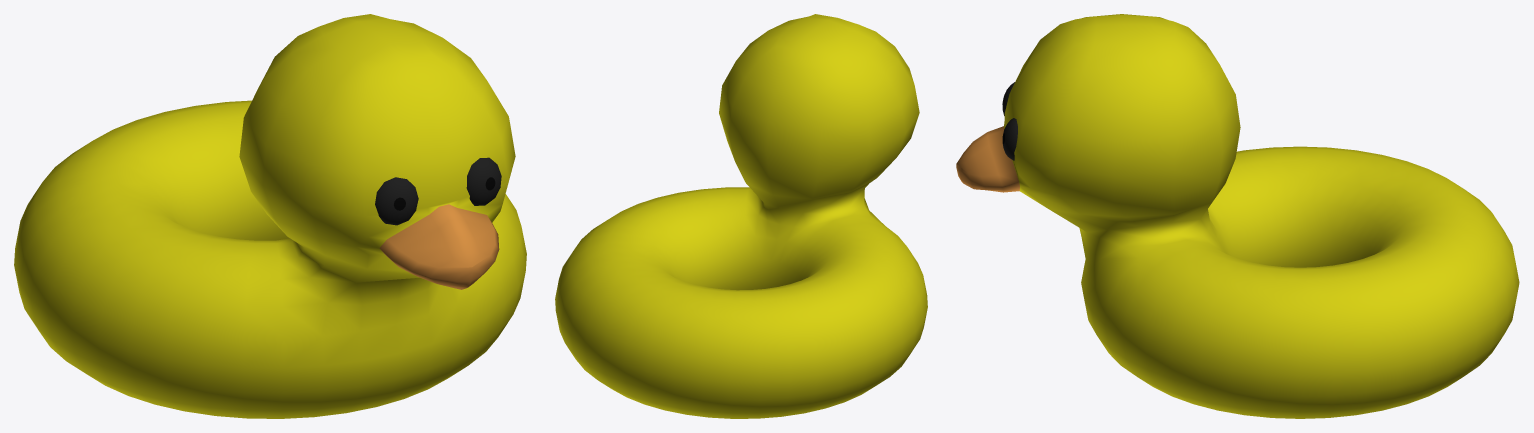
Rendered from duck.glb.
3 views of the same model, side by side, from view 1: azimuth 30°, elevation 25°; view 2: azimuth 150°, elevation 25°; view 3: azimuth 270°, elevation 25° (orthographic). The views are drawn at different scales.
Parts seen in each view (by area): view 1: FloatDuck; view 2: FloatDuck; view 3: FloatDuck.
Part boxes in pixels (box(x1,y1,x2,y2)): FloatDuck: box(14, 14, 526, 418); FloatDuck: box(555, 14, 927, 418); FloatDuck: box(956, 14, 1519, 418).
Bounding box in the file's own units: 3.06 × 2.51 × 3.93.
Materials: 4 (1 with a texture image).
